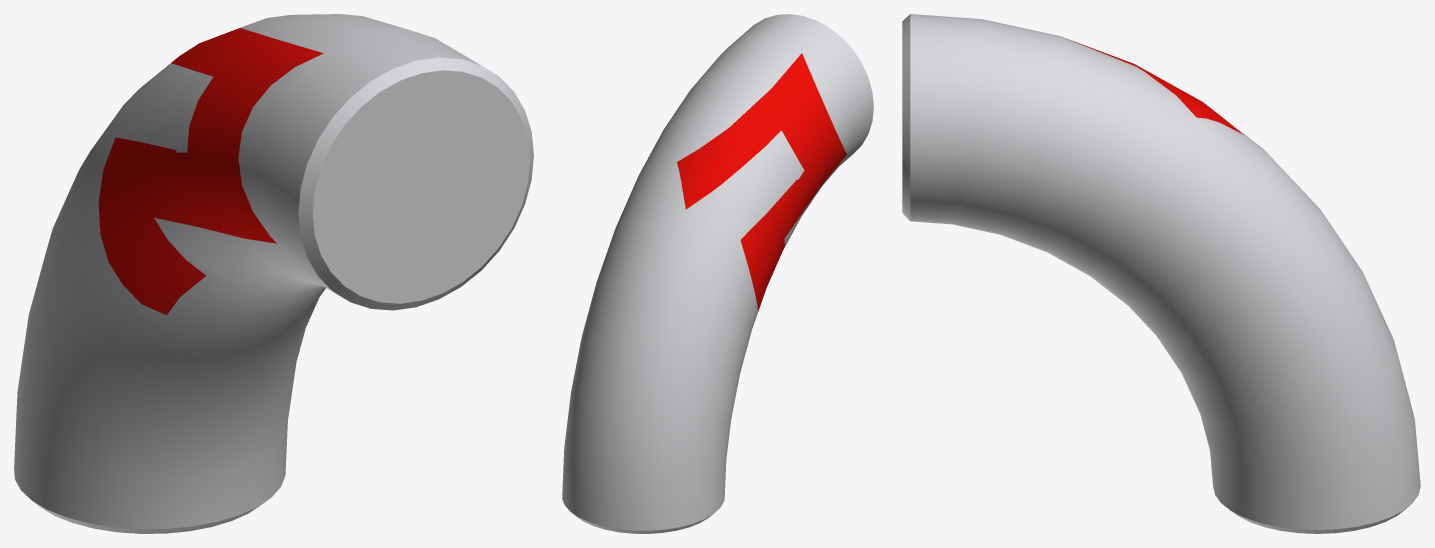
3 renders of one model, left to right at view 1: azimuth 30°, elevation 25°; view 2: azimuth 150°, elevation 25°; view 3: azimuth 270°, elevation 25°, orthographic. The views are drawn at different scales.
Visible parts, largest first — view 1: Torus; view 2: Torus; view 3: Torus.
Boxes of the visible parts, x1=… form: Torus: x1=14, y1=14, x2=533, y2=533; Torus: x1=562, y1=14, x2=873, y2=533; Torus: x1=902, y1=14, x2=1420, y2=533.
Size of the model in its own units: 130 by 325 by 325.
